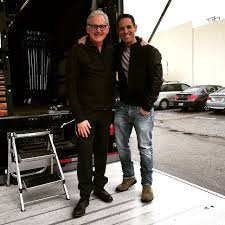Bad: (68, 9, 163, 218)
